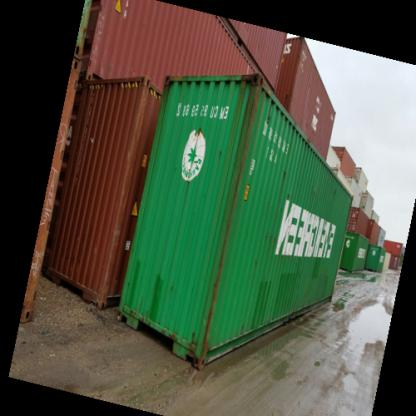Damage: (197, 74, 259, 369), (126, 313, 204, 351)
